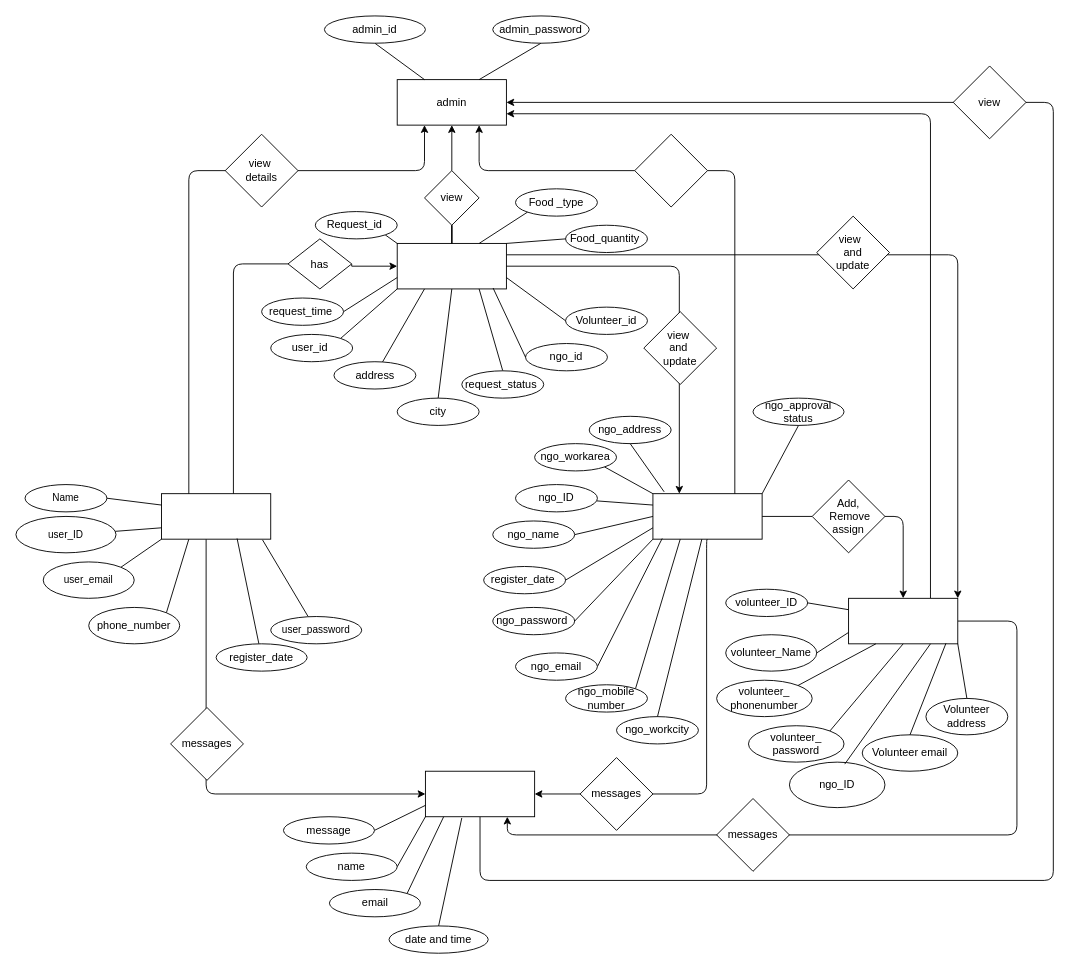
The diagram is 1077 pixels wide and 969 high, and some of its shapes have lost their labels. The centre of each missing label's shape, as x and y in pixels:
"approve and view" belongs at [671,170].
"Contact US" belongs at [480,793].
"Food Pickup requests" belongs at [451,266].
"NGO" belongs at [707,516].
"User" belongs at [216,516].
"volunteer" belongs at [903,620].
